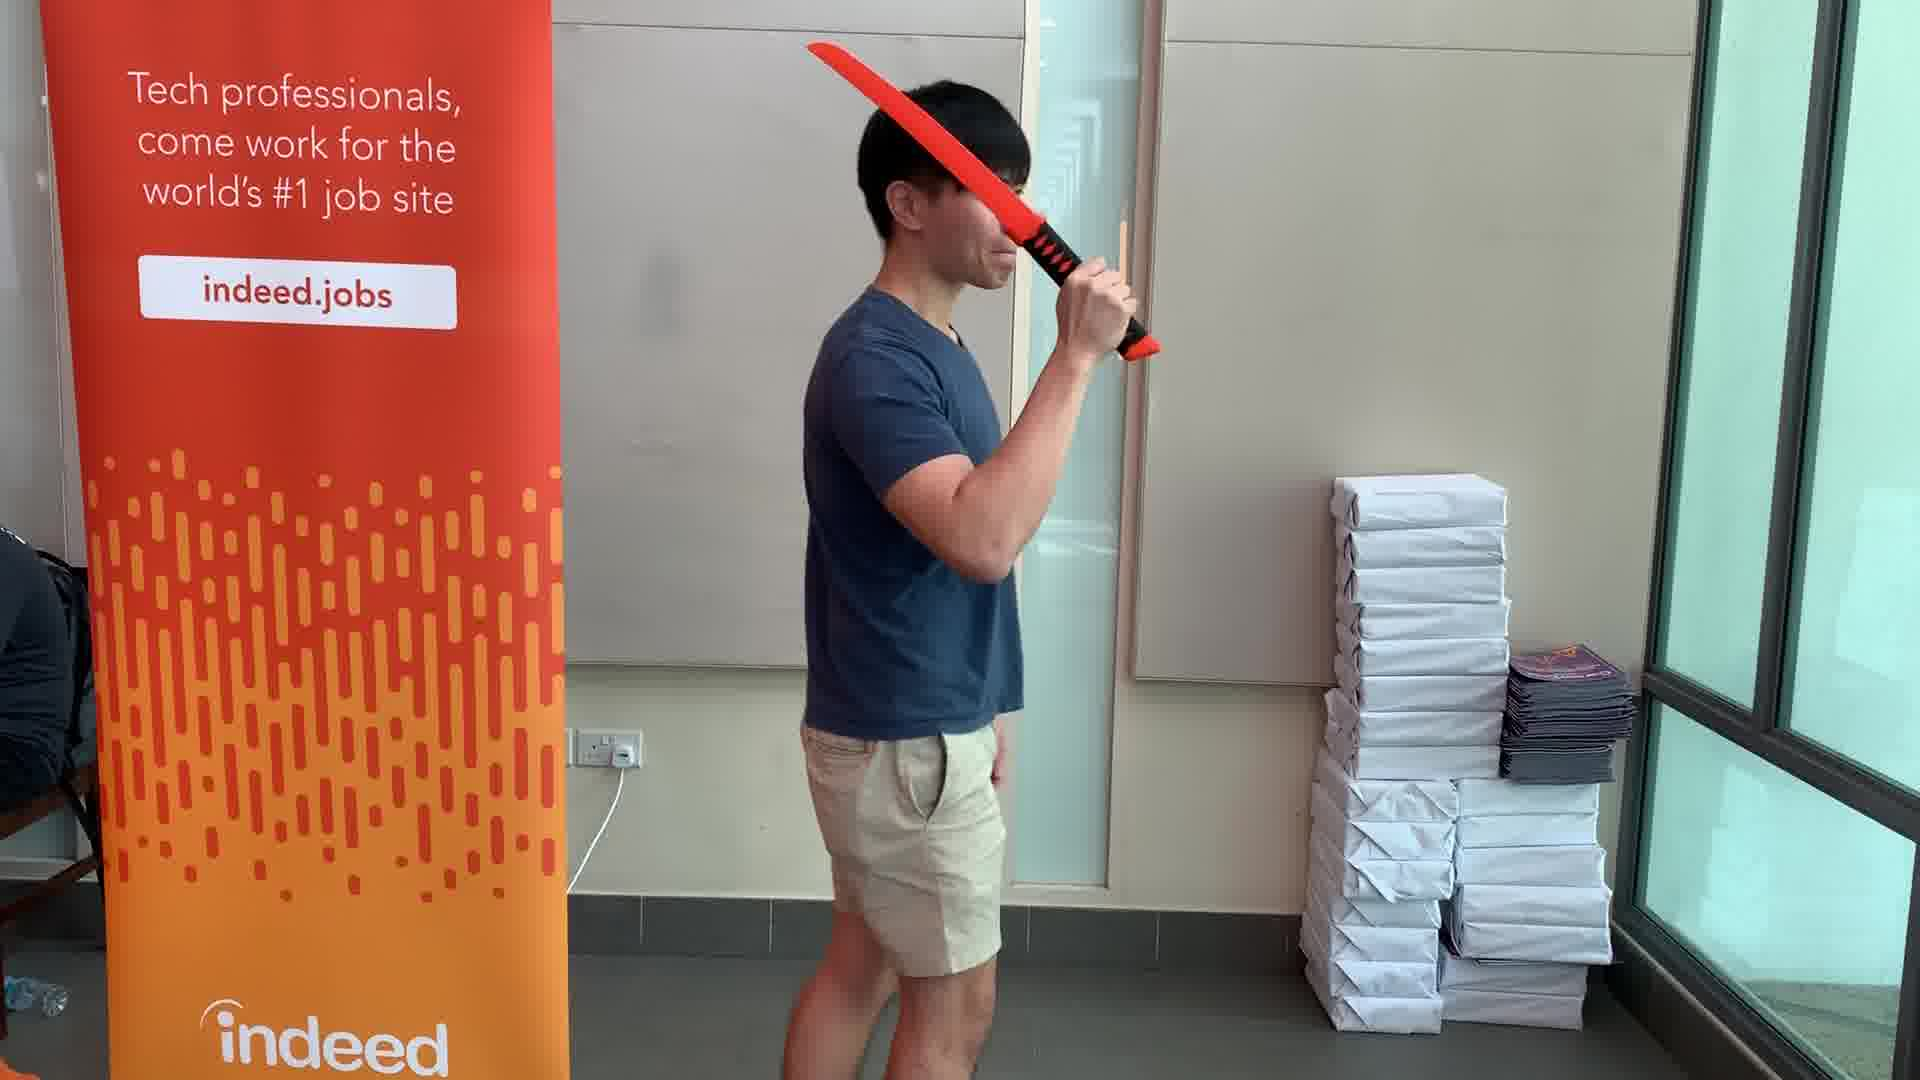knife: (800, 32, 1172, 368)
